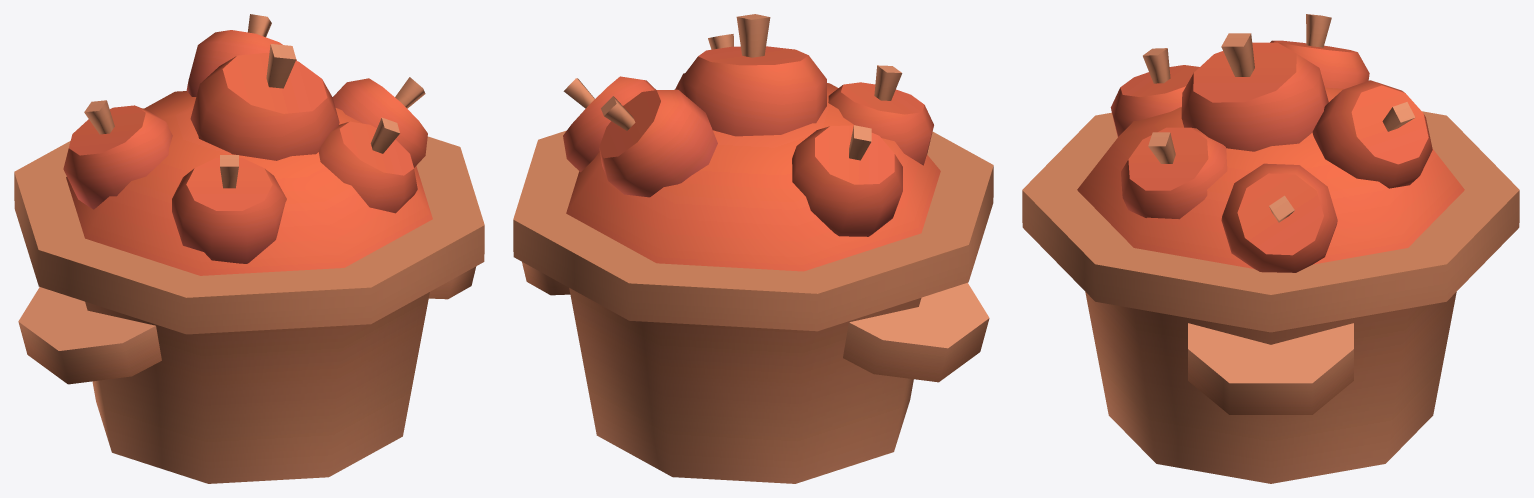
Rendered from market.display_fruit.glb.
The picture shows the model from 3 angles, left to right: view 1: azimuth 30°, elevation 25°; view 2: azimuth 150°, elevation 25°; view 3: azimuth 270°, elevation 25°; orthographic projection. The views are drawn at different scales.
Visible parts, largest first — view 1: display-fruit; view 2: display-fruit; view 3: display-fruit.
Part boxes in pixels (x1,y1,x2,y2): display-fruit: [14, 14, 484, 483]; display-fruit: [513, 14, 993, 483]; display-fruit: [1022, 14, 1519, 483].
Size of the model in its own units: 1.53 by 1.32 by 1.53.
1 material, 1 textured.
